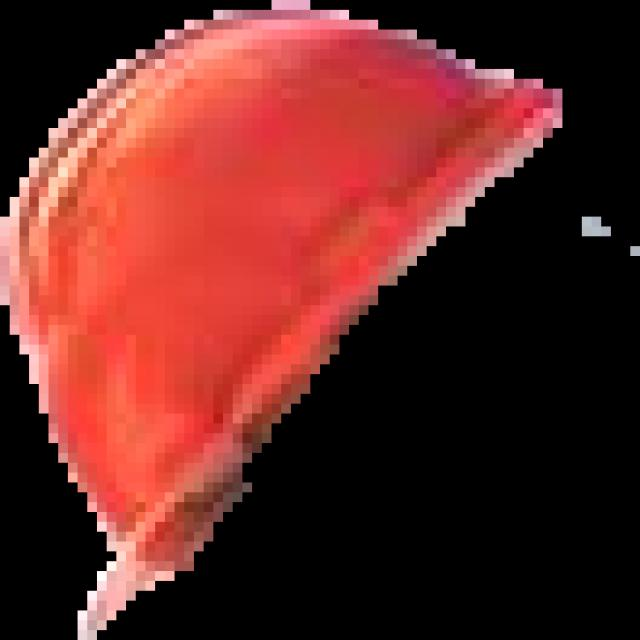Capacete: (0, 0, 562, 639)
